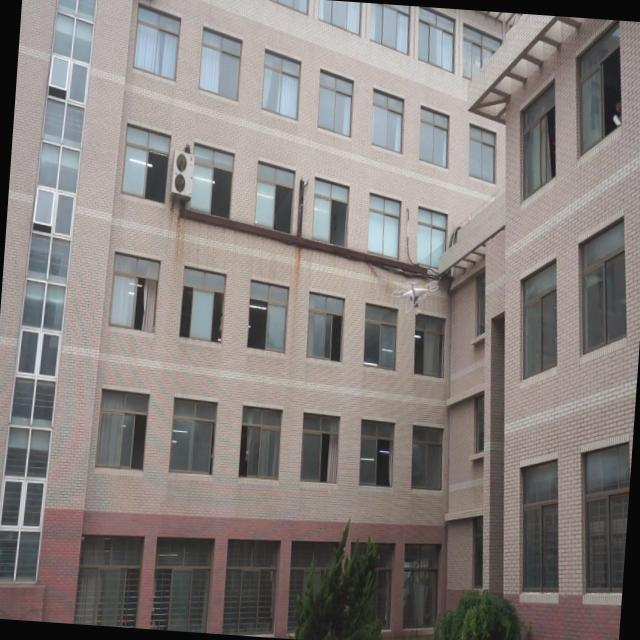drone: (388, 275, 441, 320)
